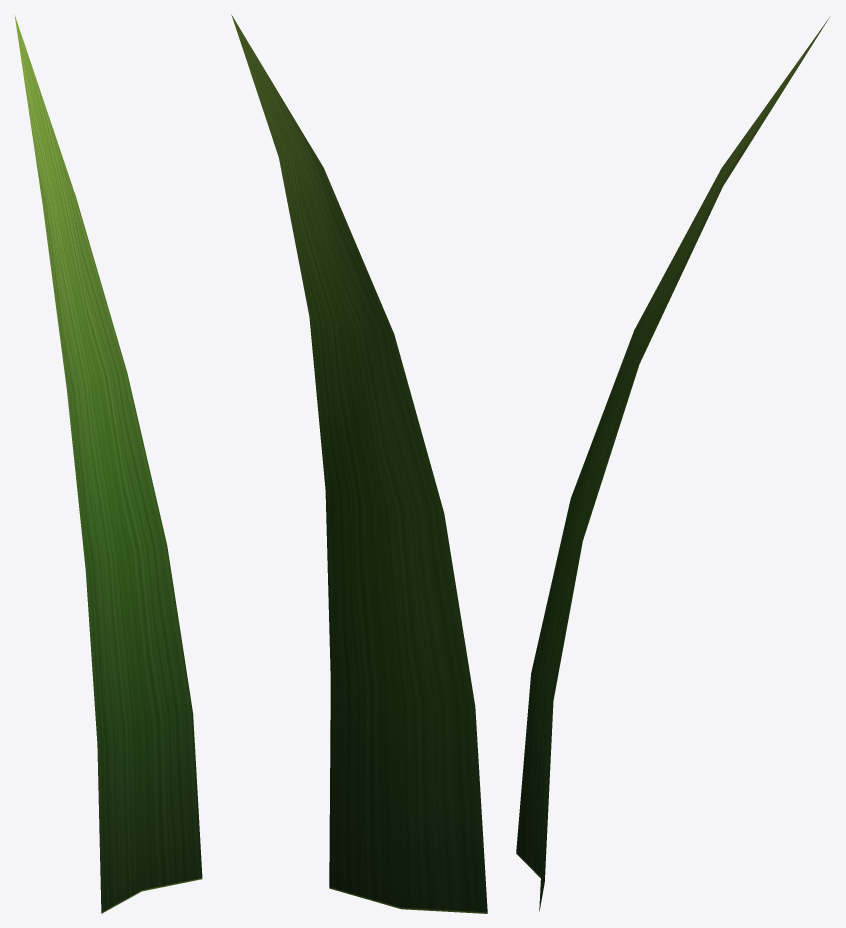
Rendered from Grass_Blade_Short.fbx.
The picture shows the model from 3 angles, left to right: view 1: azimuth 30°, elevation 25°; view 2: azimuth 150°, elevation 25°; view 3: azimuth 270°, elevation 25°; orthographic projection. The views are drawn at different scales.
Parts seen in each view (by area): view 1: Grass_Blade_Short; view 2: Grass_Blade_Short; view 3: Grass_Blade_Short.
Boxes of the visible parts, x1,y1,x2,y2 form: Grass_Blade_Short: (14, 15, 202, 913); Grass_Blade_Short: (231, 14, 487, 913); Grass_Blade_Short: (516, 16, 830, 911).
Size of the model in its own units: 0.1975 by 1.32 by 0.4359.
1 material, 1 textured.
